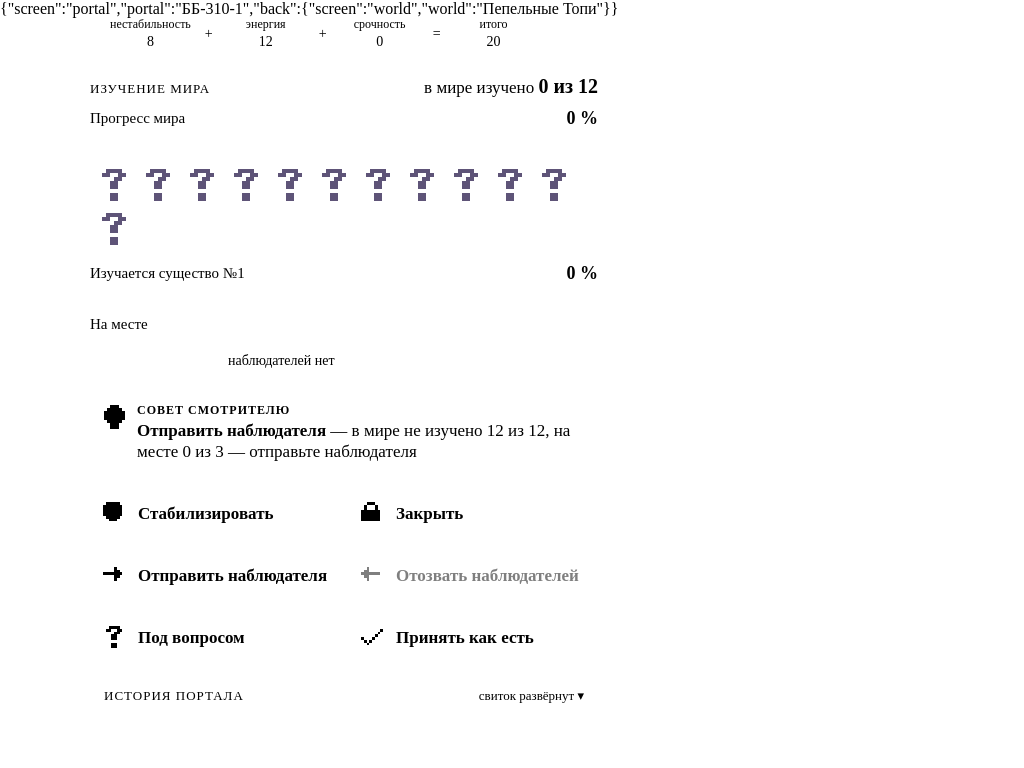
PortalCardDialog: закрытие портала › последний в мир с неизученными: открывает свиток, без window.confirm; портал пока открыт
(page scrolled)
Click the button "Закрыть".
click(473, 513)  # box 348,486 -> 598,540
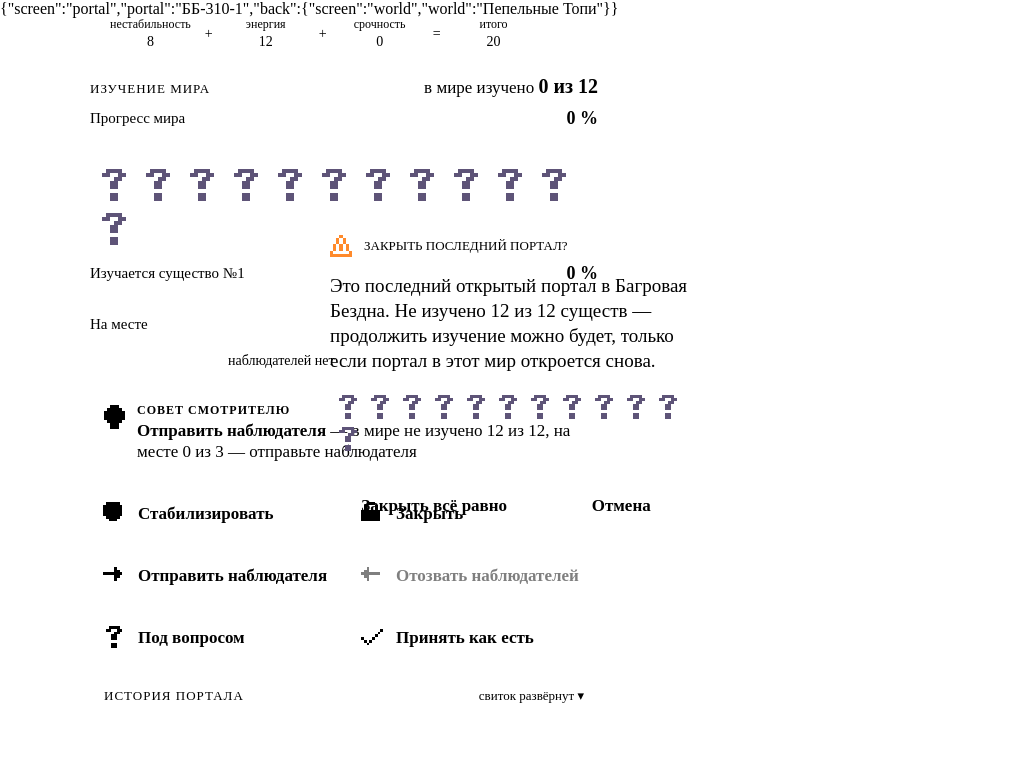
Now the picture named "Изучено 0 из 12" is shown, box 330,389 -> 694,457
